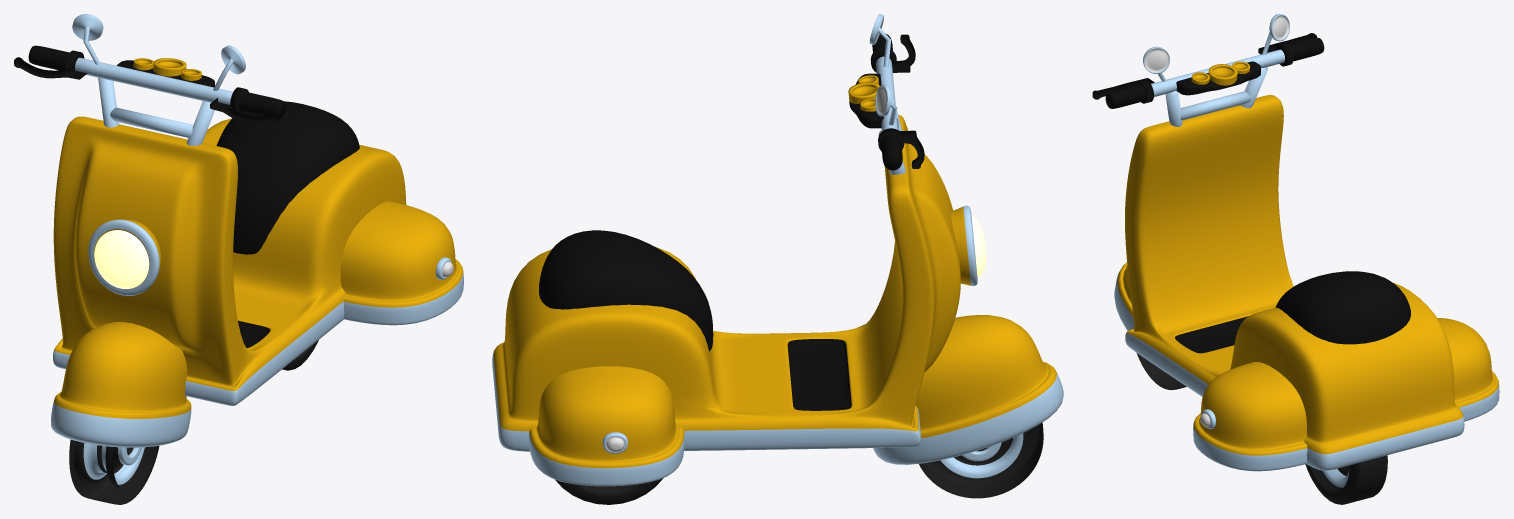
The model's file is motor_vespa.glb.
The picture shows the model from 3 angles, left to right: view 1: azimuth 30°, elevation 25°; view 2: azimuth 150°, elevation 25°; view 3: azimuth 270°, elevation 25°; orthographic projection. The views are drawn at different scales.
Parts seen in each view (by area): view 1: Body, Front; view 2: Body, Front; view 3: Body, Front.
Part boxes in pixels (<box>): Body: <box>14,14,463,405</box>; Front: <box>51,322,191,504</box>; Body: <box>492,14,986,504</box>; Front: <box>873,315,1063,498</box>; Body: <box>1092,14,1499,504</box>; Front: <box>1114,262,1186,390</box>.
Bounding box in the file's own units: 6.28 × 5.69 × 5.49.
